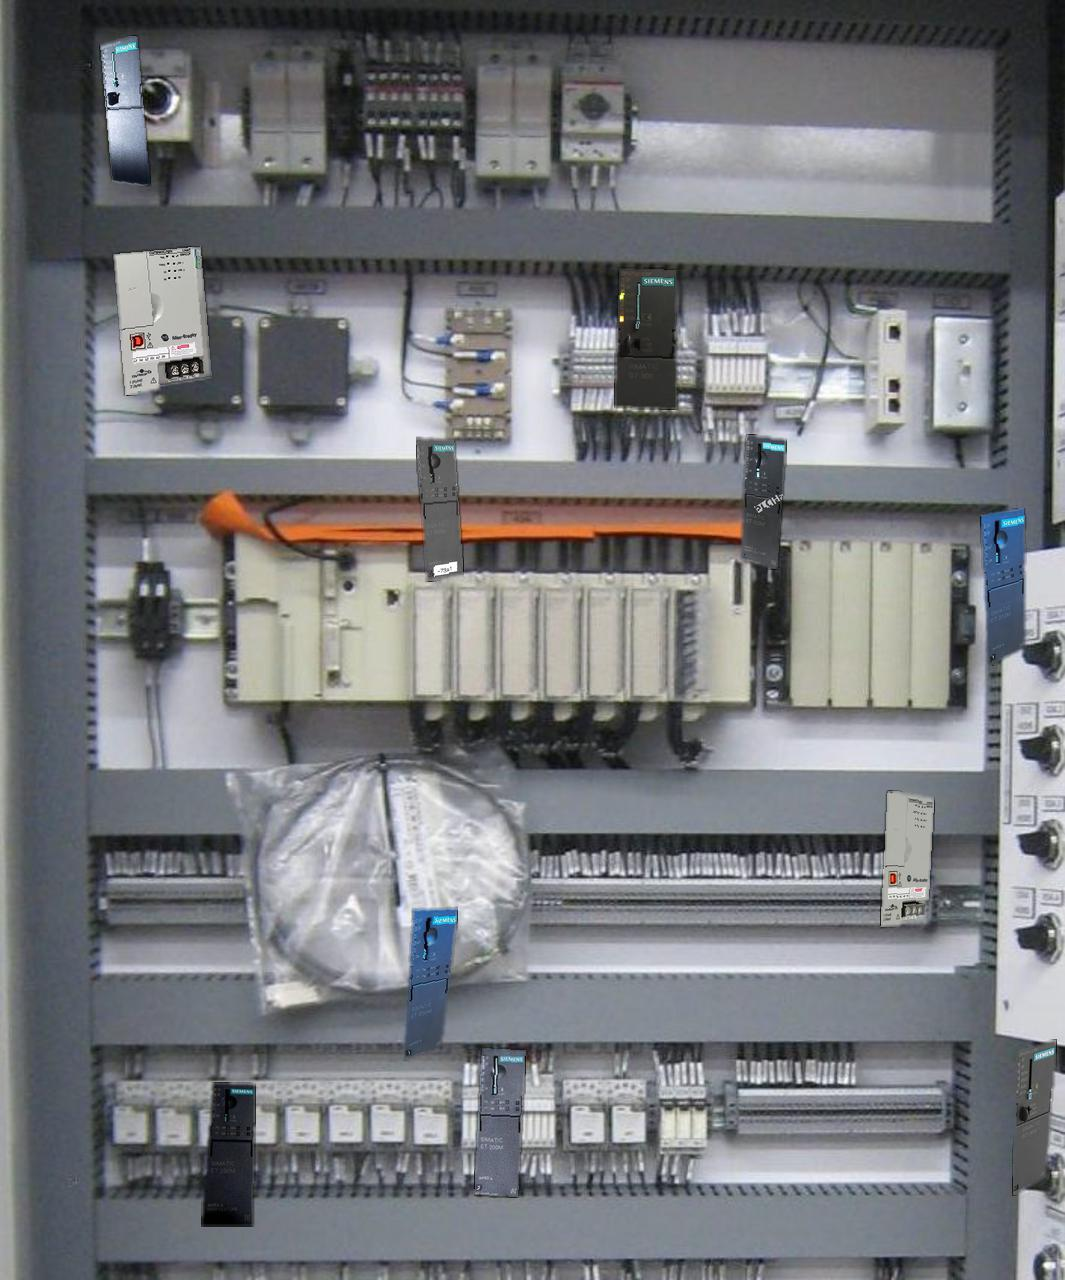AllenBradley: (114, 247, 210, 395), (880, 791, 933, 926)
Siemens: (615, 269, 676, 408), (100, 36, 149, 184), (1013, 1040, 1055, 1194)
